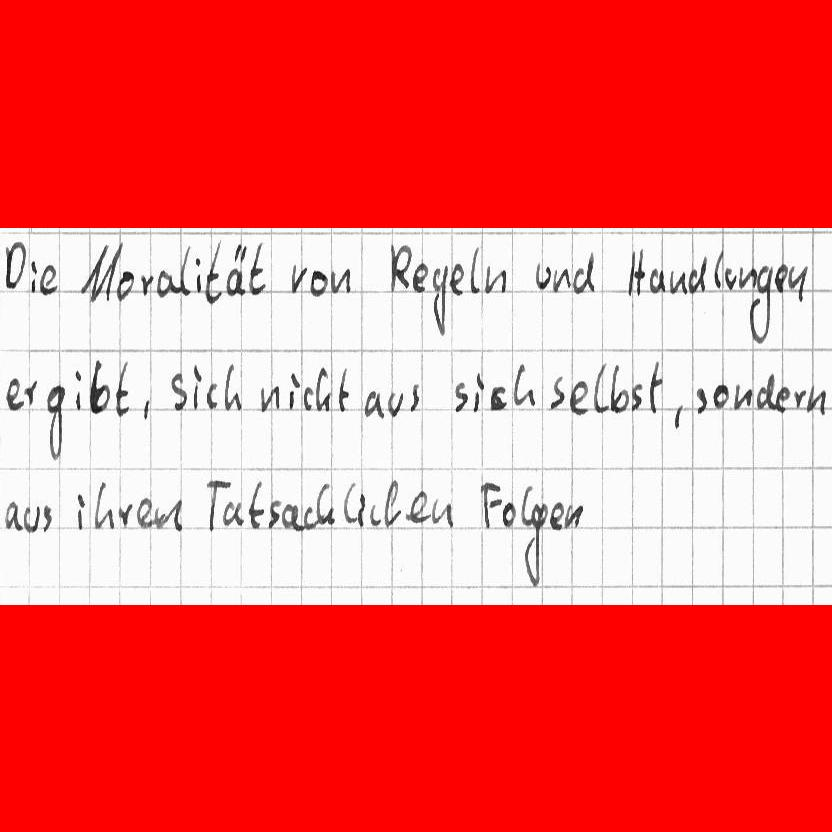Char: (522, 494, 544, 589), (82, 242, 115, 304), (749, 260, 770, 344), (44, 382, 63, 461), (225, 240, 247, 300), (87, 357, 109, 416), (203, 240, 223, 302), (430, 264, 447, 336), (511, 361, 535, 409), (389, 242, 412, 292), (91, 480, 114, 530), (204, 477, 225, 530), (625, 247, 645, 301), (382, 478, 403, 529), (222, 361, 242, 413), (478, 480, 499, 529), (4, 238, 23, 290), (248, 242, 266, 296), (155, 496, 181, 533), (115, 359, 131, 419), (573, 251, 595, 294), (609, 362, 626, 416), (593, 361, 609, 414), (797, 386, 826, 415), (316, 482, 334, 527), (568, 379, 589, 417), (315, 364, 331, 413), (430, 497, 453, 531), (248, 480, 264, 528), (169, 372, 188, 412), (175, 244, 190, 294), (789, 260, 807, 301), (407, 489, 428, 524), (648, 361, 662, 413), (756, 371, 774, 411), (258, 382, 280, 413), (221, 499, 246, 526), (467, 245, 481, 293), (361, 388, 382, 420), (483, 263, 504, 295), (39, 262, 58, 296), (337, 367, 351, 413), (330, 265, 352, 294), (548, 375, 566, 409), (116, 269, 134, 303), (690, 258, 707, 293), (289, 261, 307, 294), (5, 377, 22, 411), (670, 400, 687, 434), (137, 495, 153, 530), (342, 483, 355, 525), (733, 383, 753, 410), (565, 502, 583, 532), (287, 370, 300, 411), (711, 248, 724, 289), (385, 390, 404, 418), (669, 268, 688, 296), (453, 381, 469, 413), (156, 268, 173, 298), (191, 364, 202, 410), (488, 385, 508, 410), (38, 503, 54, 534), (413, 261, 428, 294), (472, 371, 484, 412), (74, 491, 87, 528), (4, 502, 20, 532), (738, 265, 757, 290), (535, 261, 551, 290), (451, 262, 465, 295), (648, 267, 665, 294), (775, 386, 794, 410), (24, 379, 39, 409), (310, 269, 327, 295), (711, 383, 728, 409), (554, 266, 571, 292), (73, 369, 83, 413), (549, 501, 564, 530), (119, 501, 135, 528), (139, 270, 154, 298), (282, 504, 298, 530), (299, 505, 315, 531), (28, 258, 39, 295), (206, 381, 220, 410), (23, 504, 37, 533), (721, 263, 736, 290), (775, 263, 788, 294), (408, 381, 421, 412), (301, 384, 315, 411), (630, 383, 643, 412), (501, 501, 516, 526), (366, 502, 380, 528), (140, 395, 153, 423), (695, 387, 708, 415), (267, 501, 281, 526), (193, 256, 202, 292), (357, 493, 366, 527)
